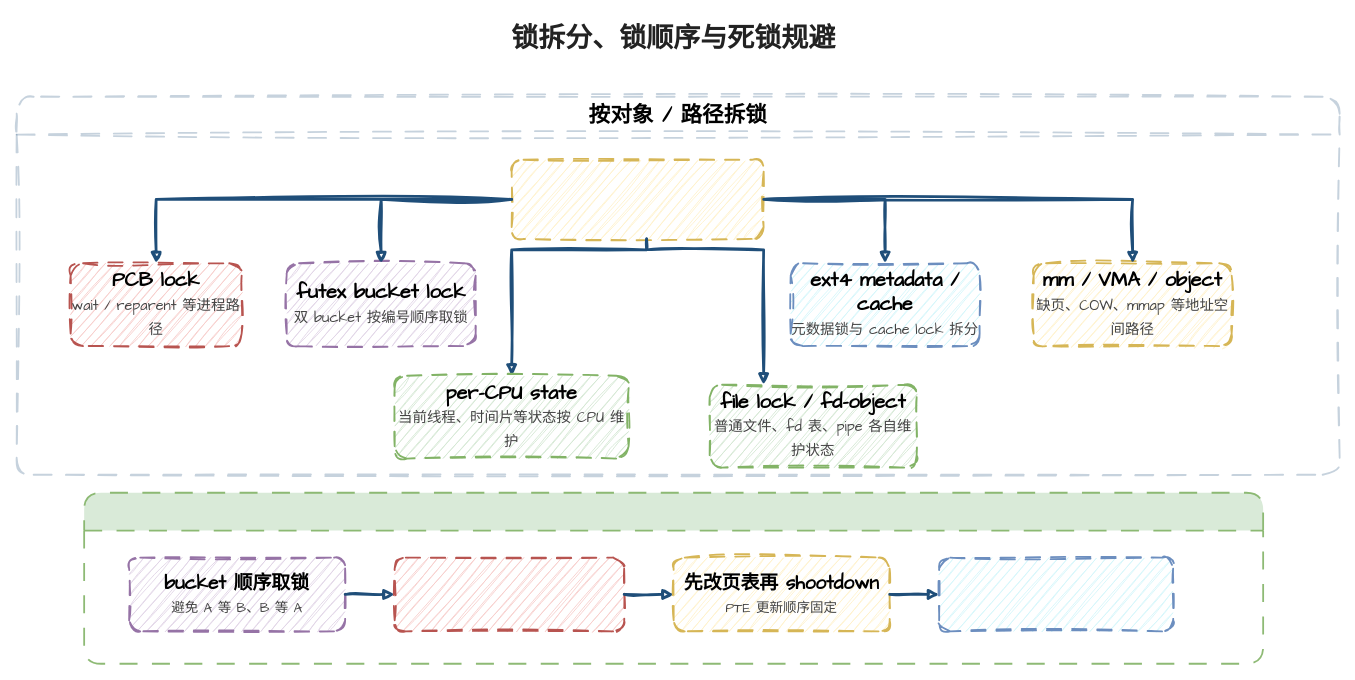
Image size: 1355x680. Some labels were removed from this diagram. Each missing label, with the box of its shape:
ack 后回收跨核对象 避免其他 CPU 仍引用旧状态: (938, 556, 1174, 632)
pipe 锁内不触发缺页 减少与 mm / fs 锁嵌套反转: (393, 556, 625, 632)
多核并发安全: (510, 158, 764, 239)
锁顺序约束: (83, 491, 1264, 664)
